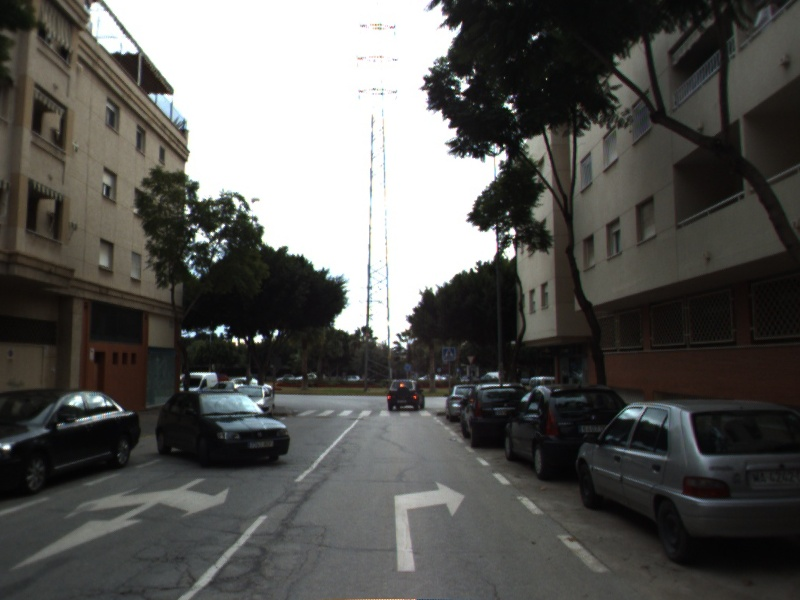RIGHT: (392, 477, 468, 574)
